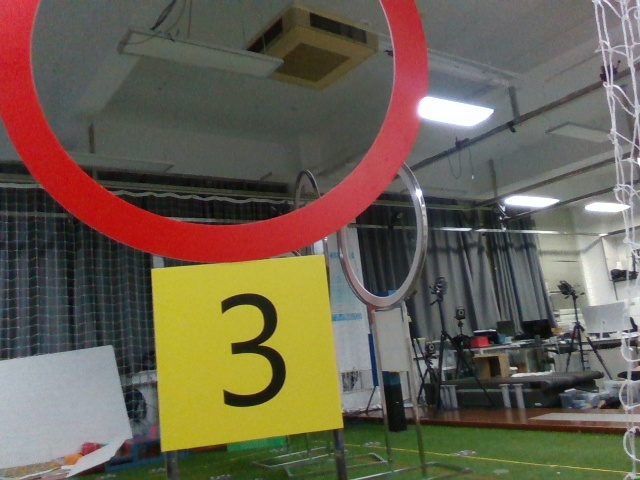target: (157, 274, 334, 433)
